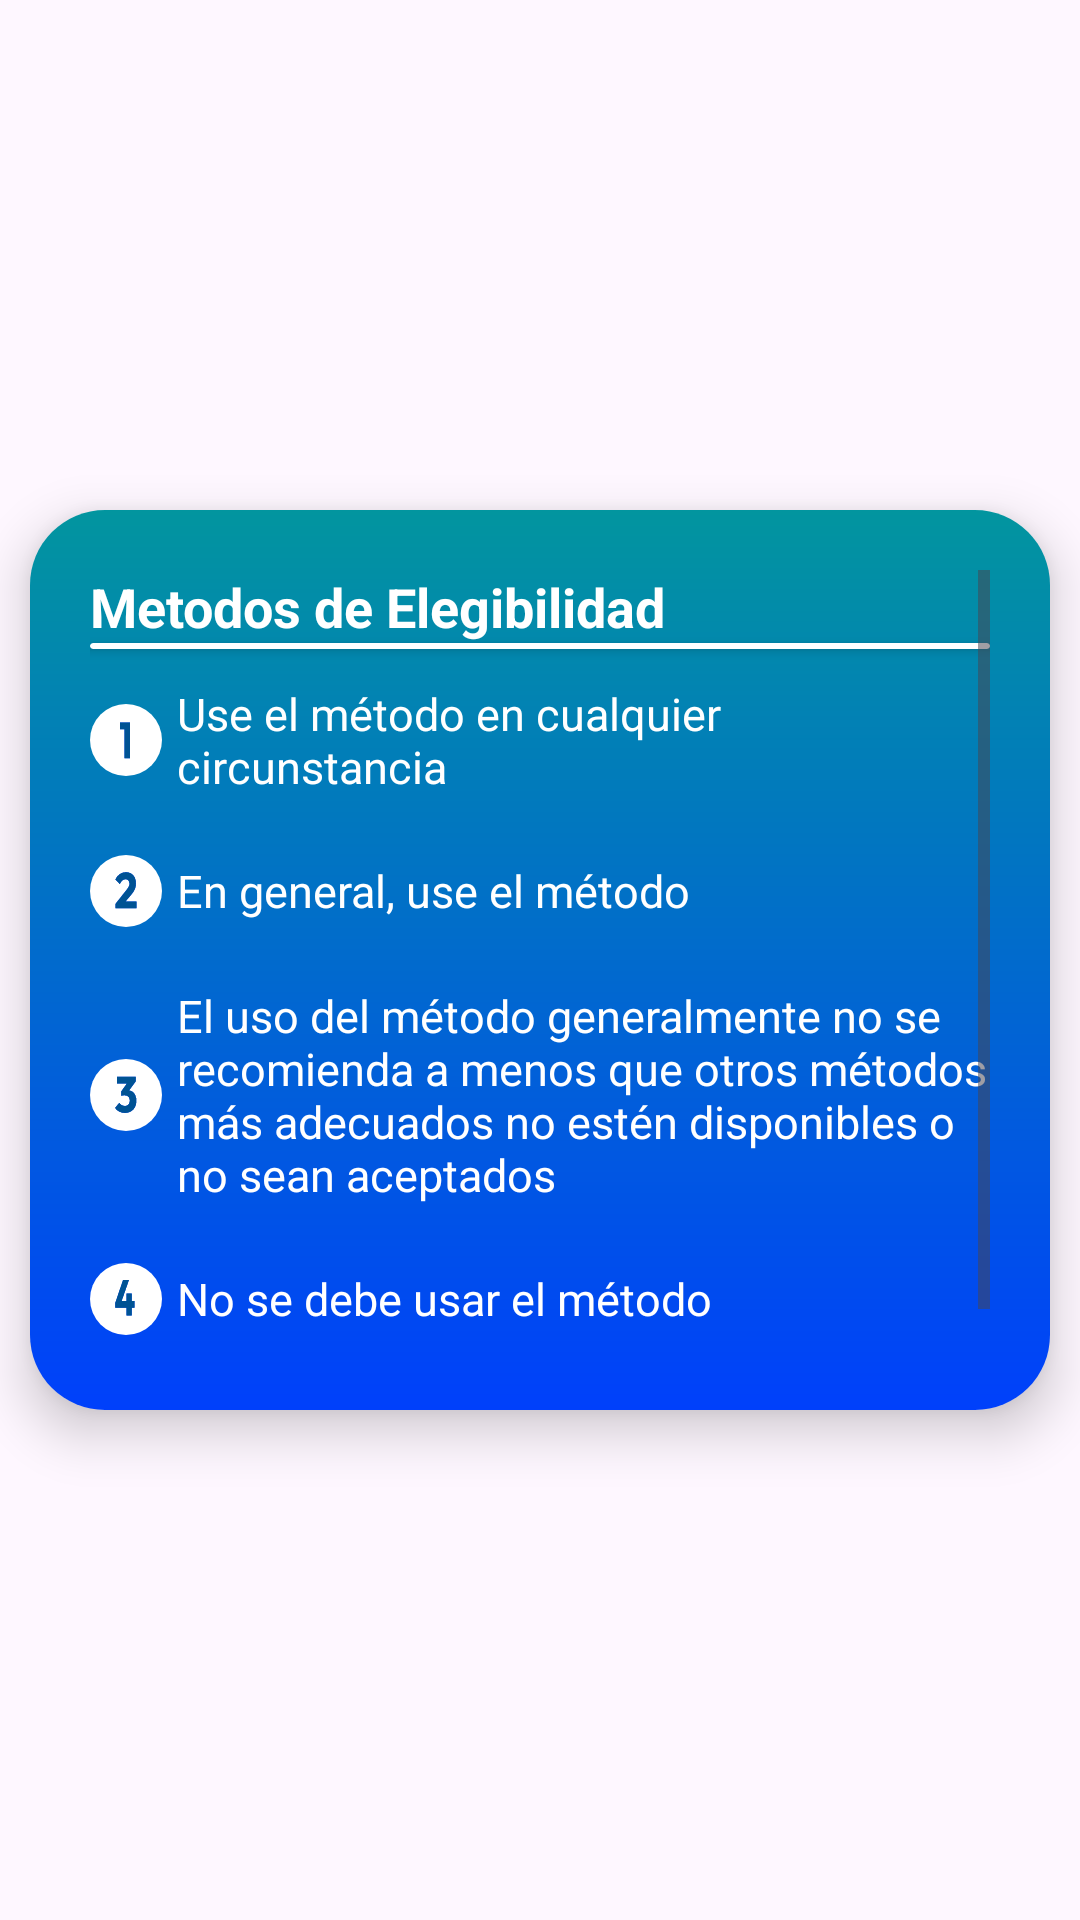

Where icons sit on this 1080 × 1920 app screen, as region(x1, y1, x2, y2):
num: region(90, 704, 162, 776), region(90, 855, 162, 927), region(90, 1059, 162, 1131), region(90, 1263, 162, 1335)
